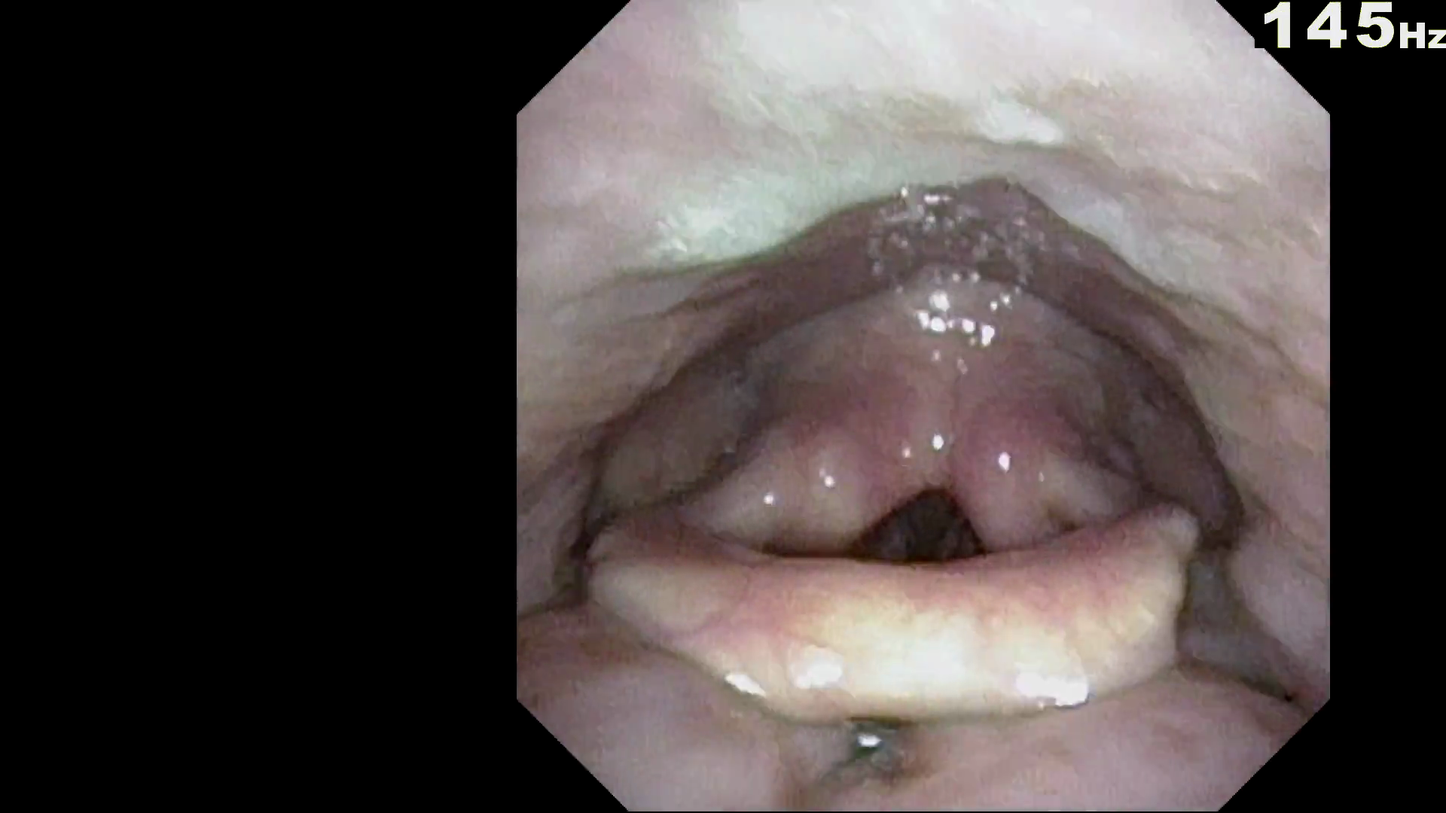epiglottis: (670, 514, 1215, 671)
trachea: (876, 467, 989, 565)
